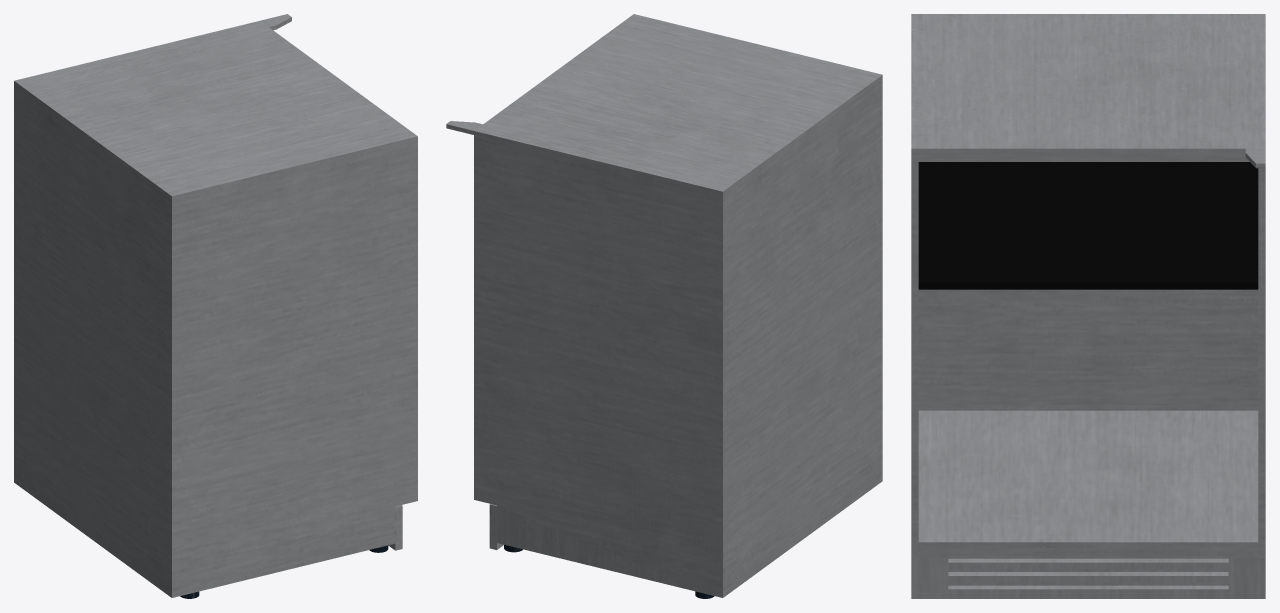
3 renders of one model, left to right at view 1: azimuth 30°, elevation 25°; view 2: azimuth 150°, elevation 25°; view 3: azimuth 270°, elevation 25°, orthographic. The views are drawn at different scales.
Parts seen in each view (by area): view 1: visuals; view 2: visuals; view 3: visuals.
Boxes of the visible parts, x1,y1,x2,y2 form: visuals: (14,14,417,598); visuals: (446,14,882,598); visuals: (911,14,1265,598).
Bounding box in the file's own units: 0.6359 × 0.9122 × 0.6359.
Materials: 1 (1 with a texture image).
